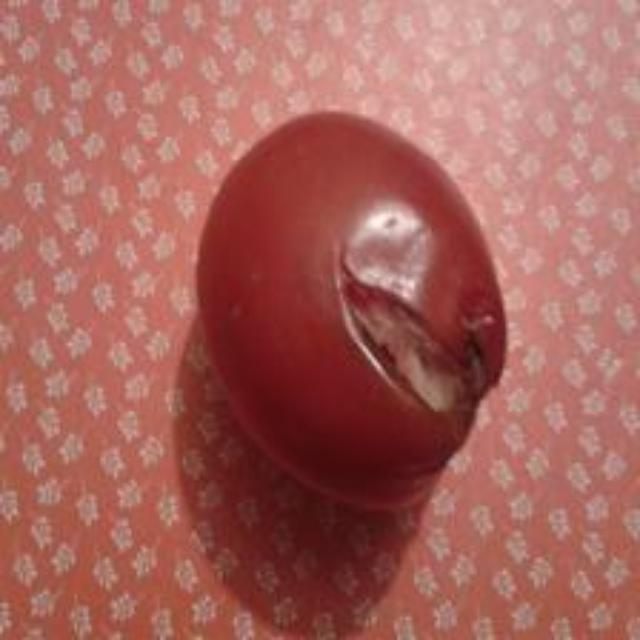defect: (191, 104, 514, 518)
